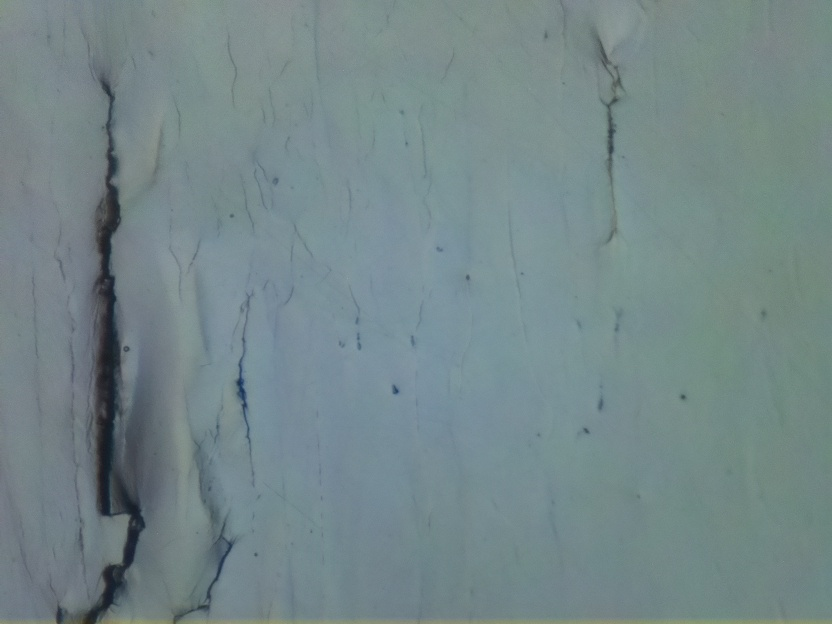crack: (50, 74, 144, 624), (171, 515, 237, 624), (589, 41, 623, 240), (234, 305, 260, 483)
